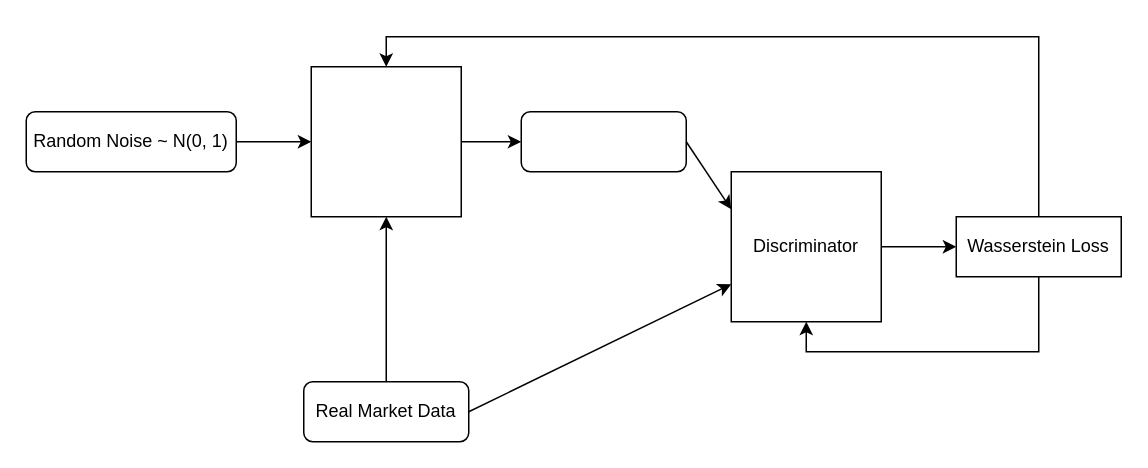
Image size: 1148x468. Some labels were removed from this diagram. Here are the shapes that lost their labels. From the top down, the centre of each, then its label:
point (385, 141): Generator
point (603, 141): Generated Market Data
